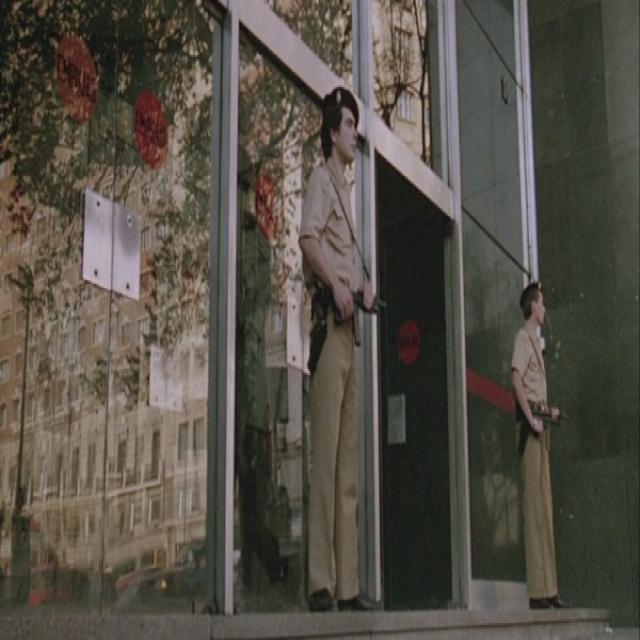rifle: (316, 287, 390, 343), (519, 402, 568, 450)
